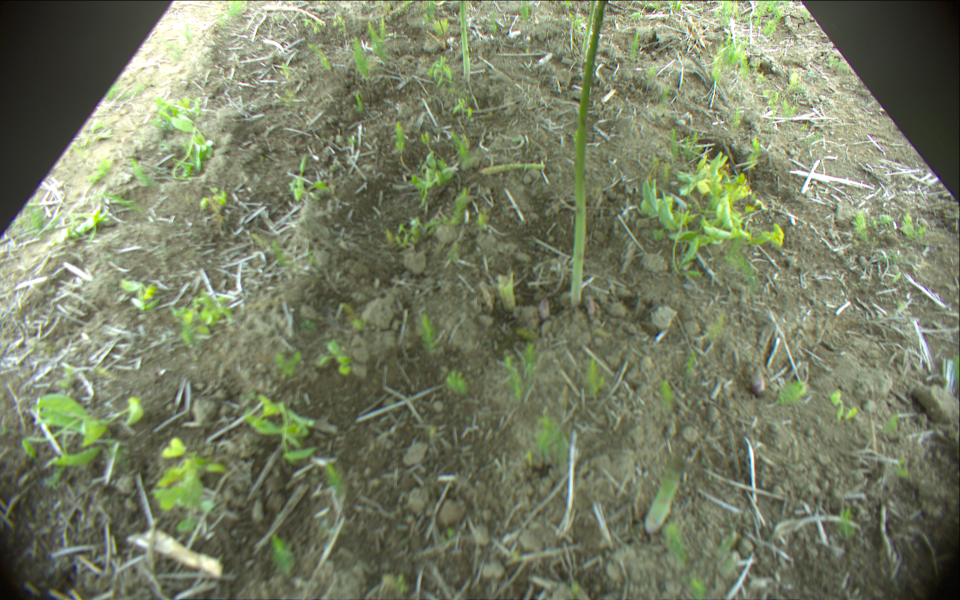aspa: (571, 1, 609, 307), (644, 455, 686, 533), (458, 1, 471, 80), (481, 161, 548, 174), (581, 1, 595, 58)
